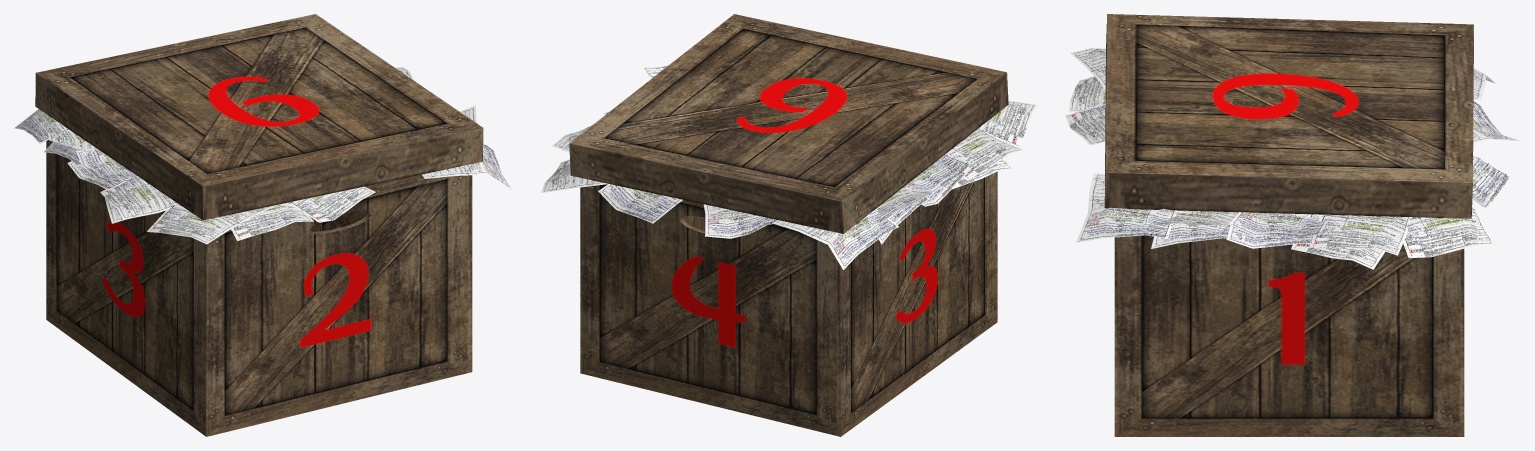
Rendered from boxDeberes.FBX.
The picture shows the model from 3 angles, left to right: view 1: azimuth 30°, elevation 25°; view 2: azimuth 150°, elevation 25°; view 3: azimuth 270°, elevation 25°; orthographic projection. The views are drawn at different scales.
Parts seen in each view (by area): view 1: Mesh004; view 2: Mesh004; view 3: Mesh004.
Boxes of the visible parts, left/top/right/bottom form: Mesh004: left=14, top=14, right=512, bottom=436; Mesh004: left=541, top=14, right=1036, bottom=436; Mesh004: left=1065, top=14, right=1520, bottom=436.
Bounding box in the file's own units: 3.28 × 2.08 × 3.1.
2 materials, 2 textured.
